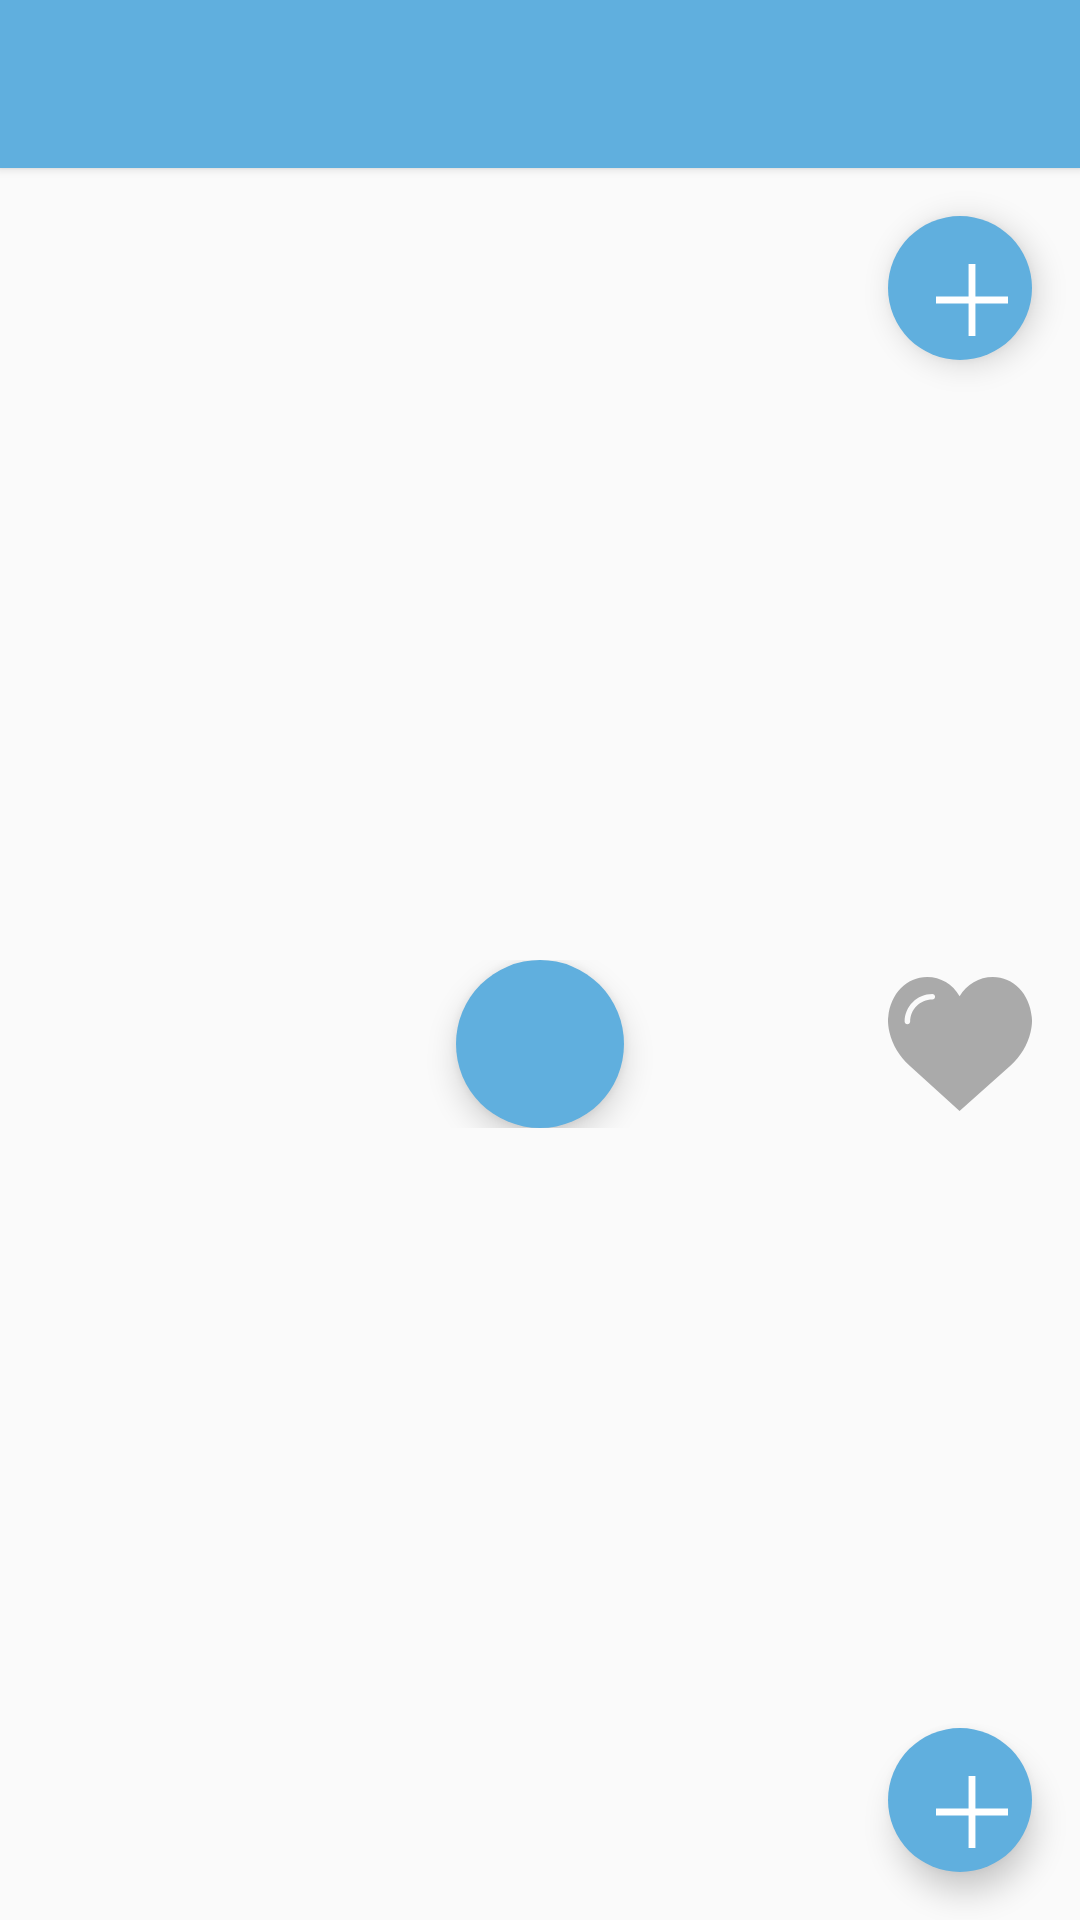

Icon click points for this 1080x1920 phone screenshot, format (x=x, y=y):
fab add: (x=960, y=288), (x=960, y=1800)
